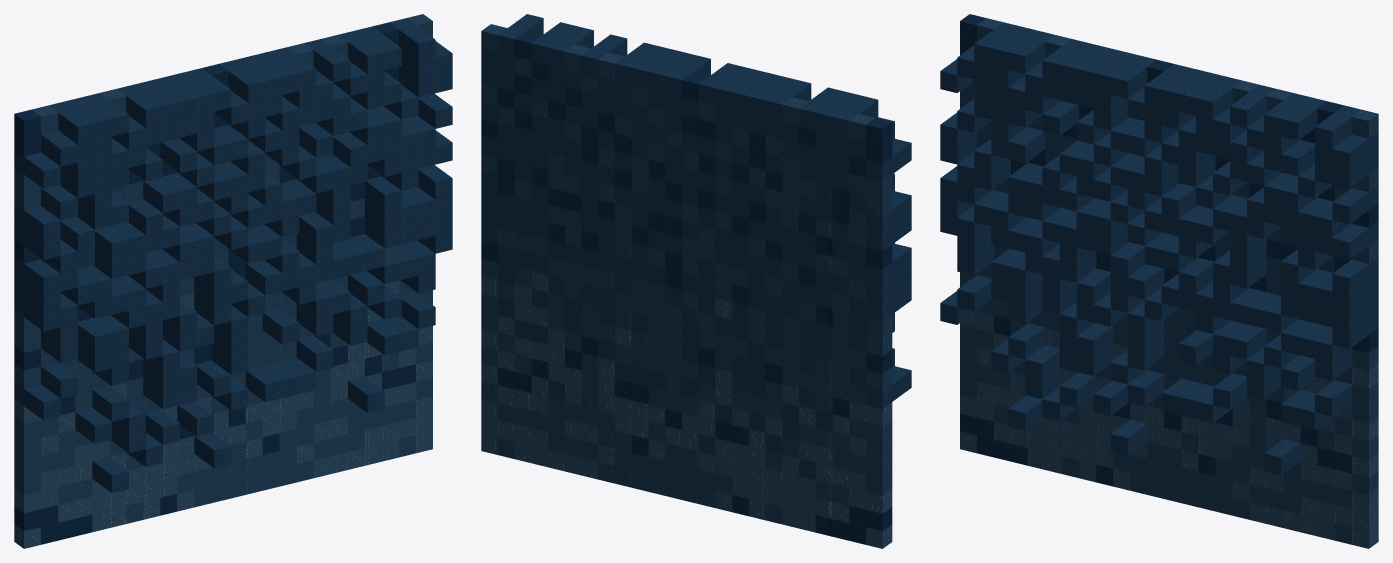
The picture shows the model from 3 angles, left to right: view 1: azimuth 30°, elevation 25°; view 2: azimuth 150°, elevation 25°; view 3: azimuth 330°, elevation 25°; orthographic projection.
Bounding box in the file's own units: 2.4 × 2.4 × 0.3.
